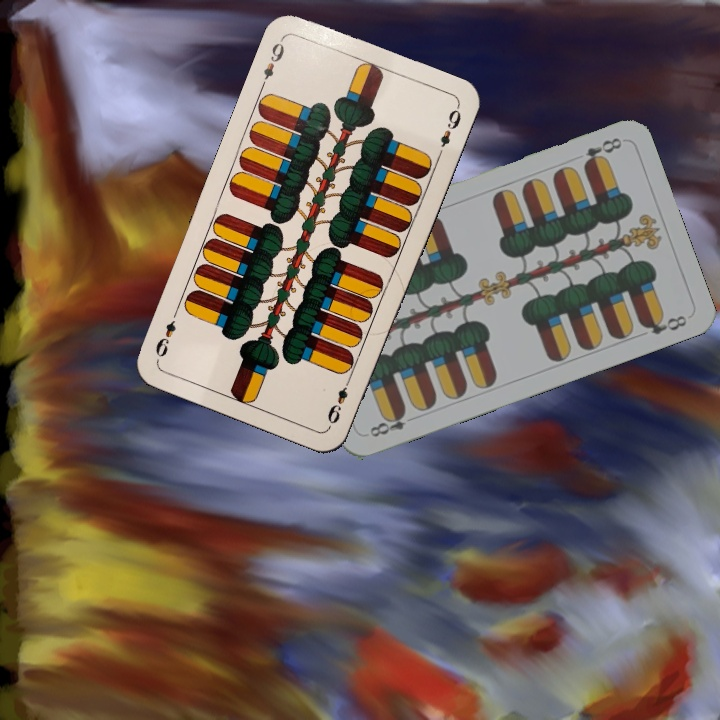E8: (365, 406, 419, 440), (579, 133, 625, 170)
E9: (323, 372, 355, 429), (257, 34, 287, 90)
